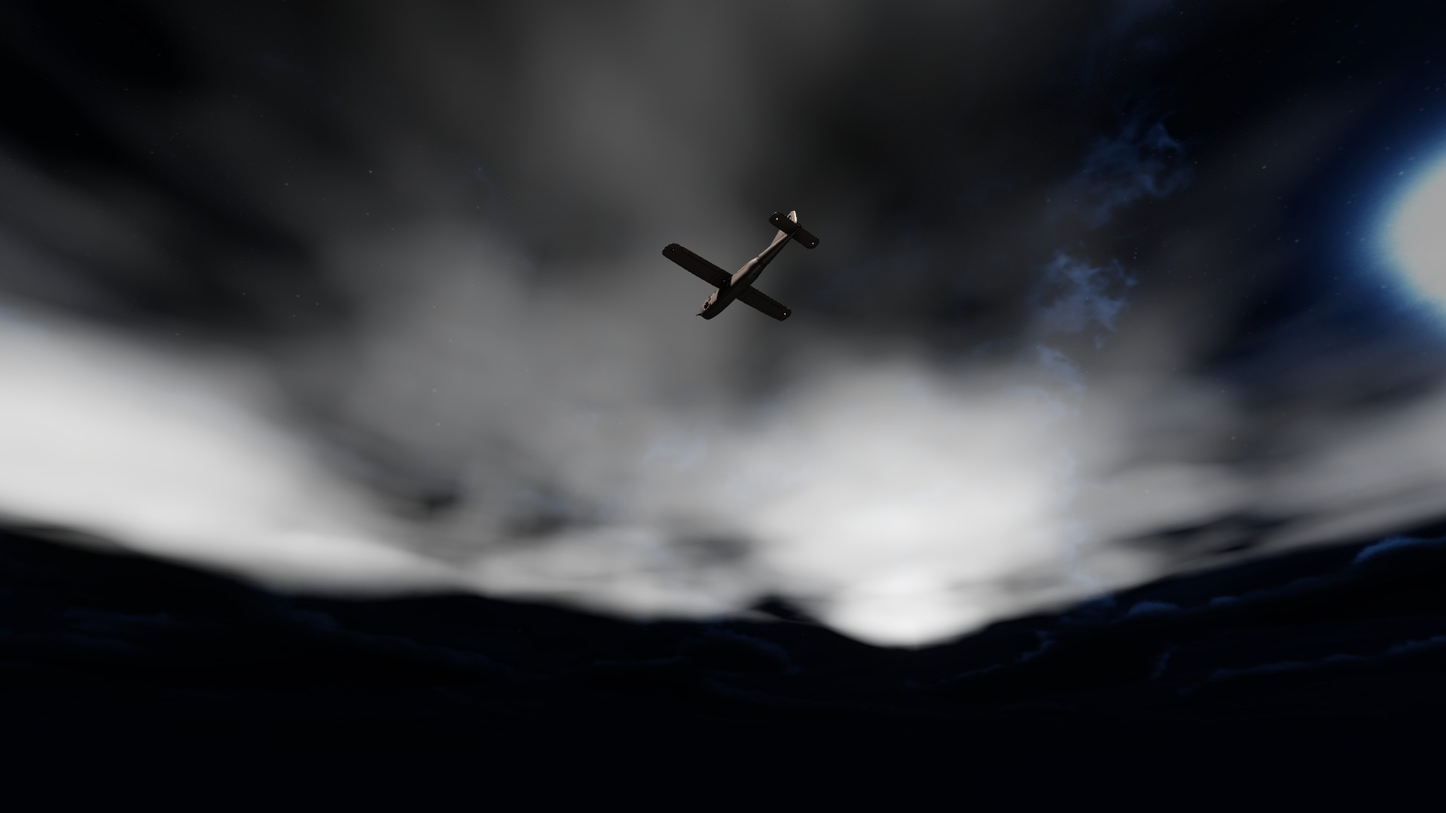drone_other: (662, 210, 820, 321)
